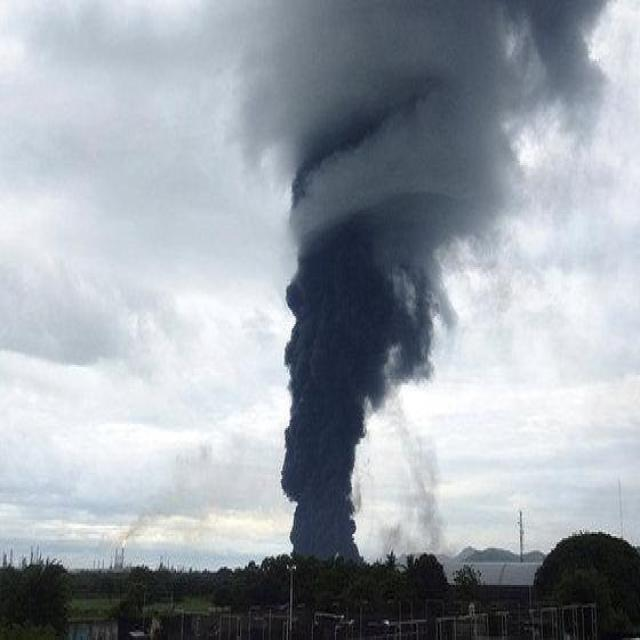Smoke: (279, 2, 608, 559), (121, 428, 278, 539)
